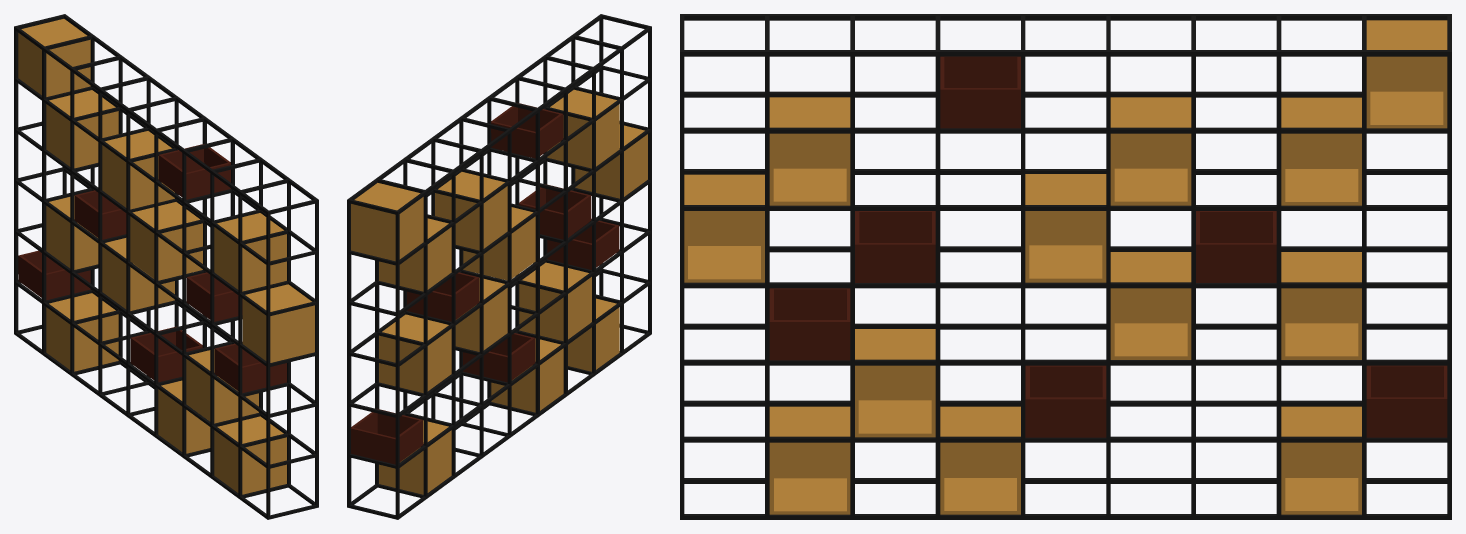
The model's file is OfficeShelf_final.FBX.
3 views of the same model, side by side, from view 1: azimuth 30°, elevation 25°; view 2: azimuth 150°, elevation 25°; view 3: azimuth 270°, elevation 25° (orthographic). The views are drawn at different scales.
Visible parts, largest first — view 1: office_room_divider; view 2: office_room_divider; view 3: office_room_divider.
Part boxes in pixels (left/top/right/bottom): office_room_divider: left=14, top=14, right=318, bottom=519; office_room_divider: left=347, top=14, right=651, bottom=519; office_room_divider: left=680, top=14, right=1451, bottom=519.
Size of what is drawn, in the model's own units: 50.6 by 435 by 291.
